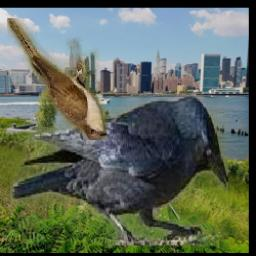Crow: (11, 94, 229, 245)
Cuckoo: (8, 19, 108, 141)
